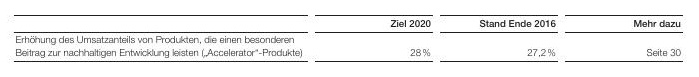table: (0, 0, 699, 77)
